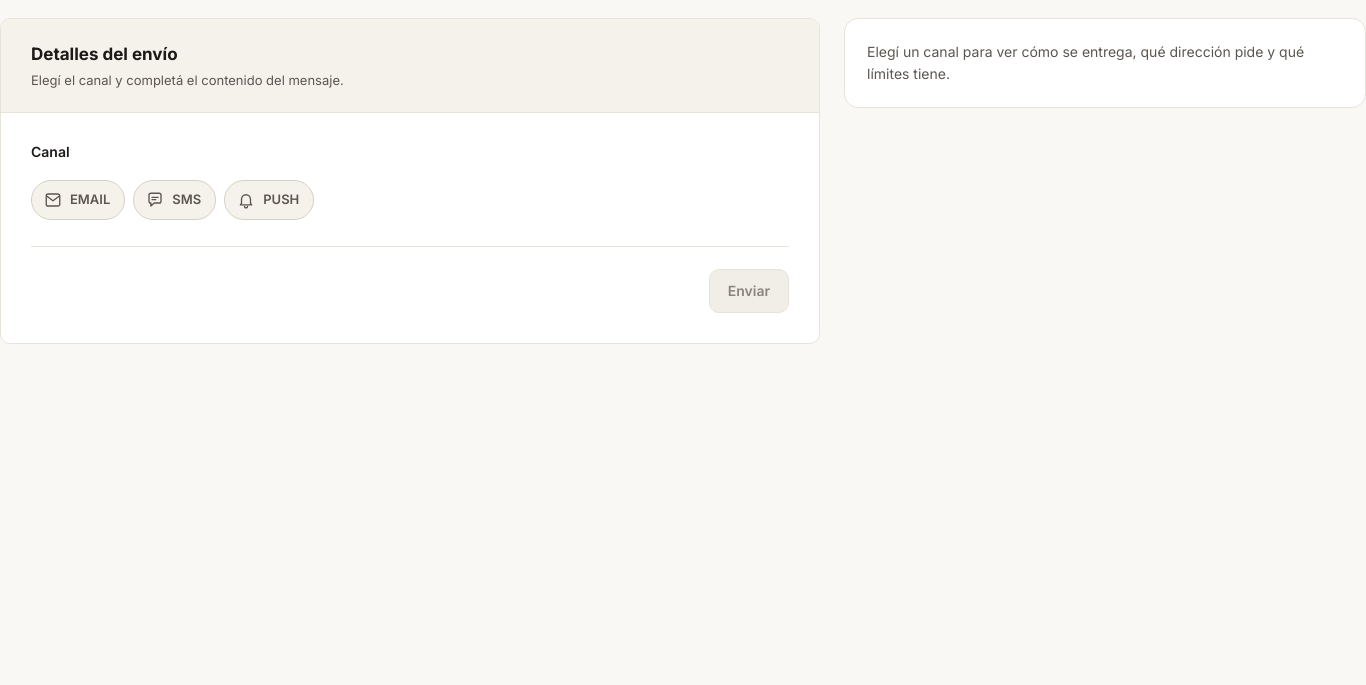
Test: NuevaNotificacion (validaciones) › envía el asunto sin espacios sobrantes y el correo normalizado
Click the radio button labelled "EMAIL". click: {"x": 78, "y": 200}
box: [31,180,125,220]
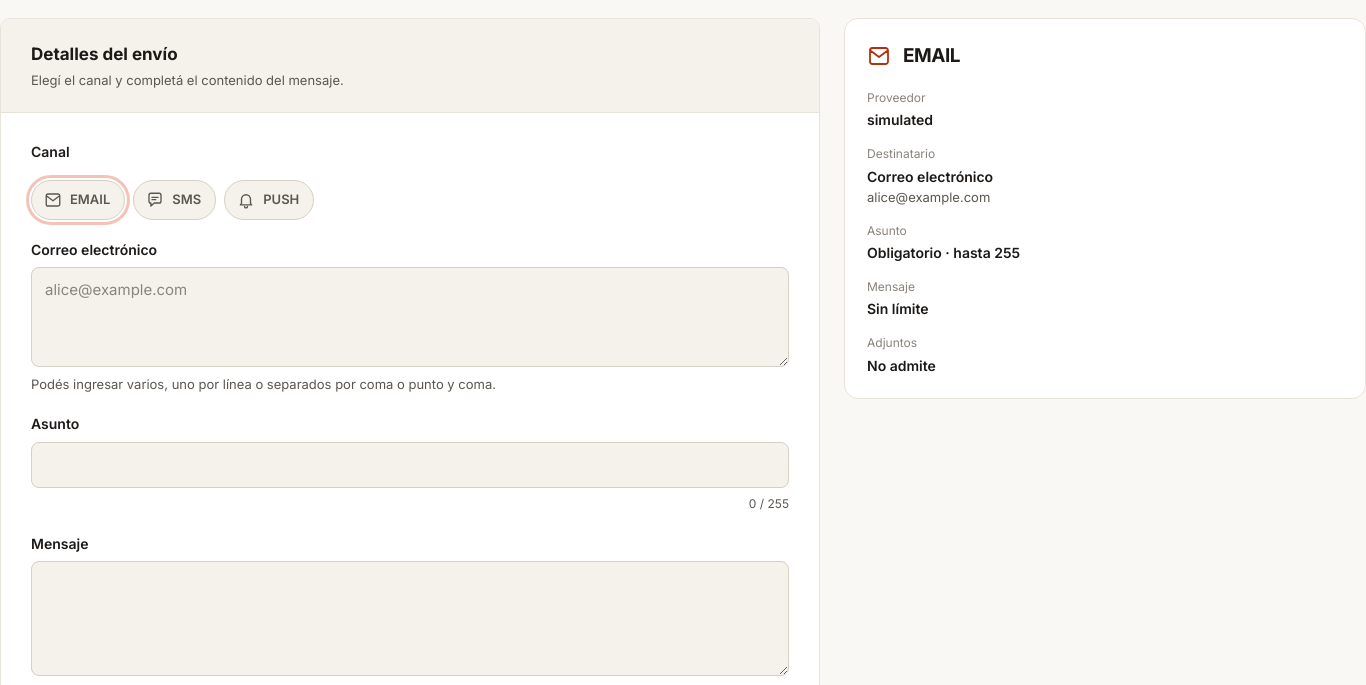
Type "  Alice@Example.COM " into the text box labelled "Correo electrónico". click: {"x": 410, "y": 317}
box: [31,267,789,367]
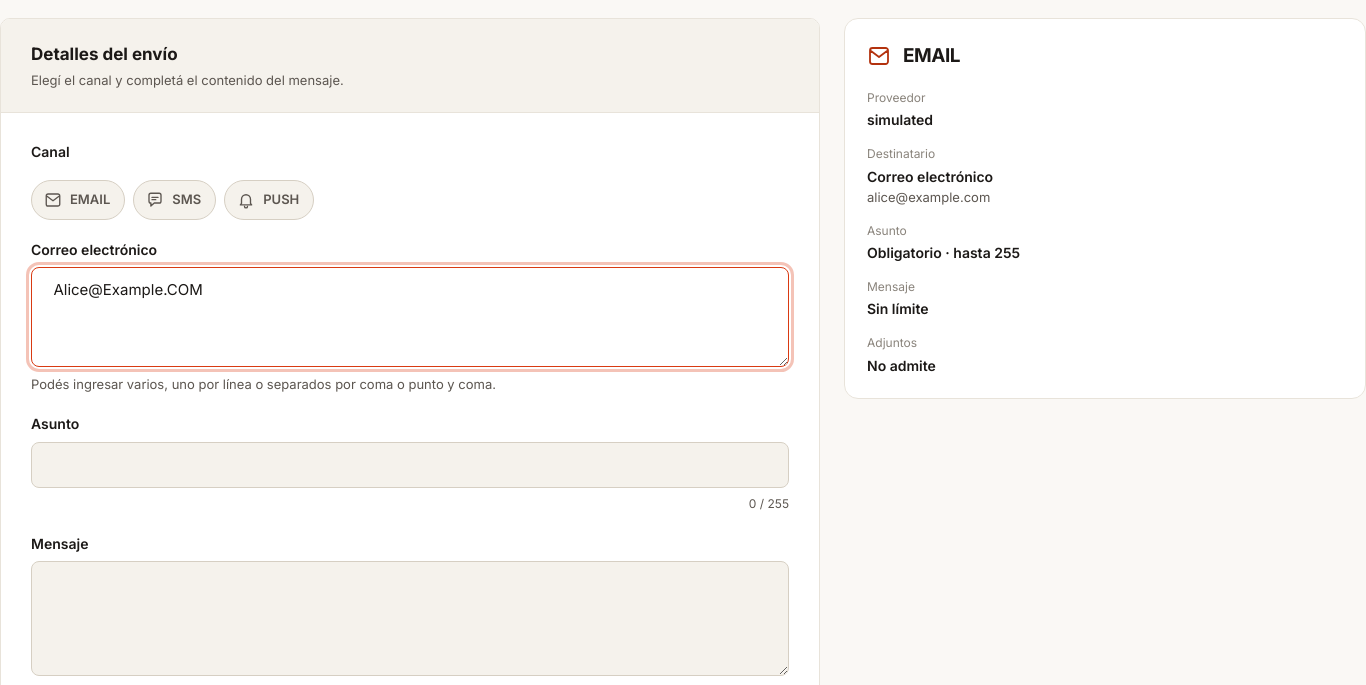
Type "  Tu pedido  " into the field labelled "Asunto". click: {"x": 410, "y": 465}
box: [31,442,789,488]
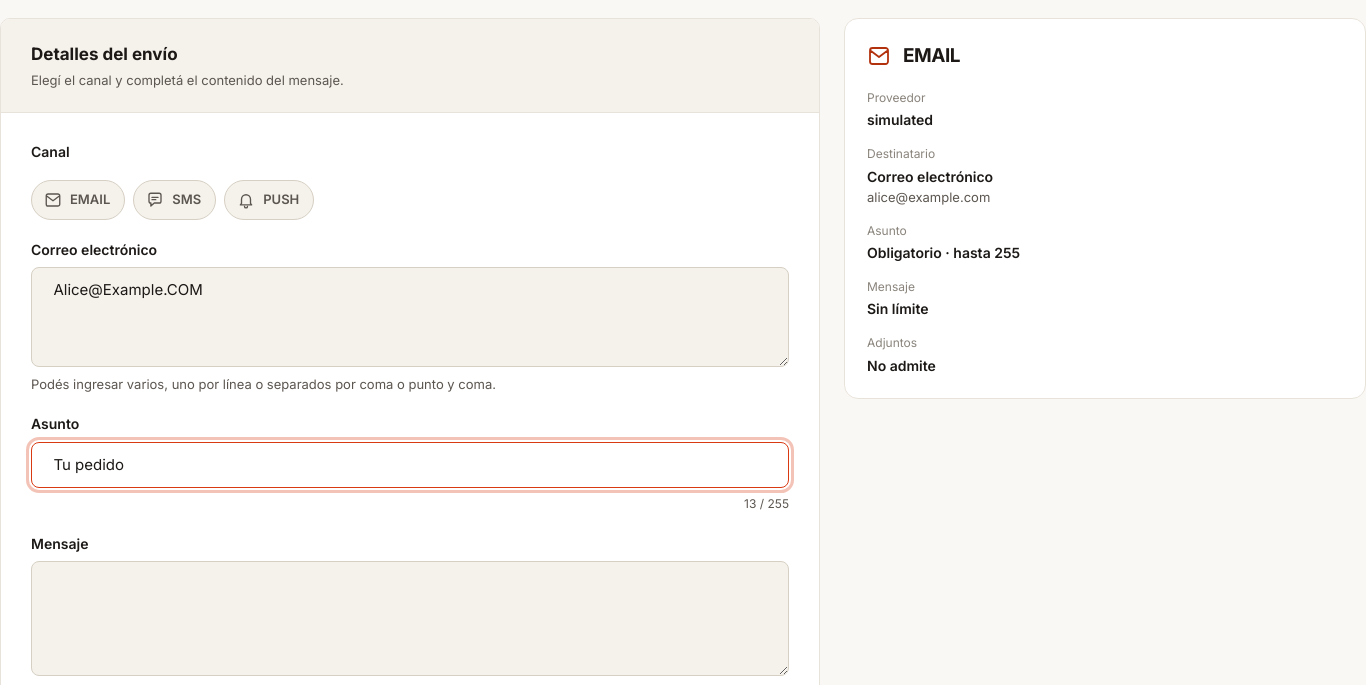
Type "Hola Alice" into the text box labelled "Mensaje". click: {"x": 410, "y": 619}
box: [31,561,789,676]
(page scrolled)
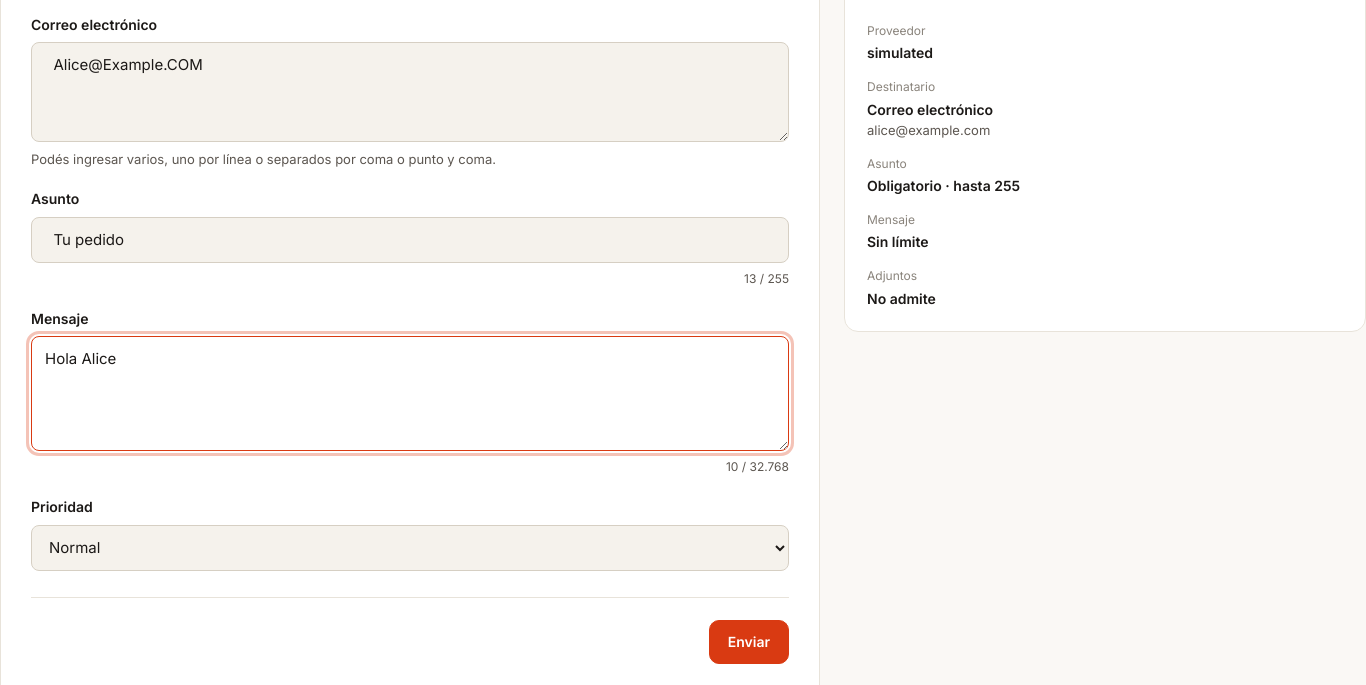
Click the button "Enviar". click: {"x": 749, "y": 642}
box: [709,620,789,664]
(page scrolled)
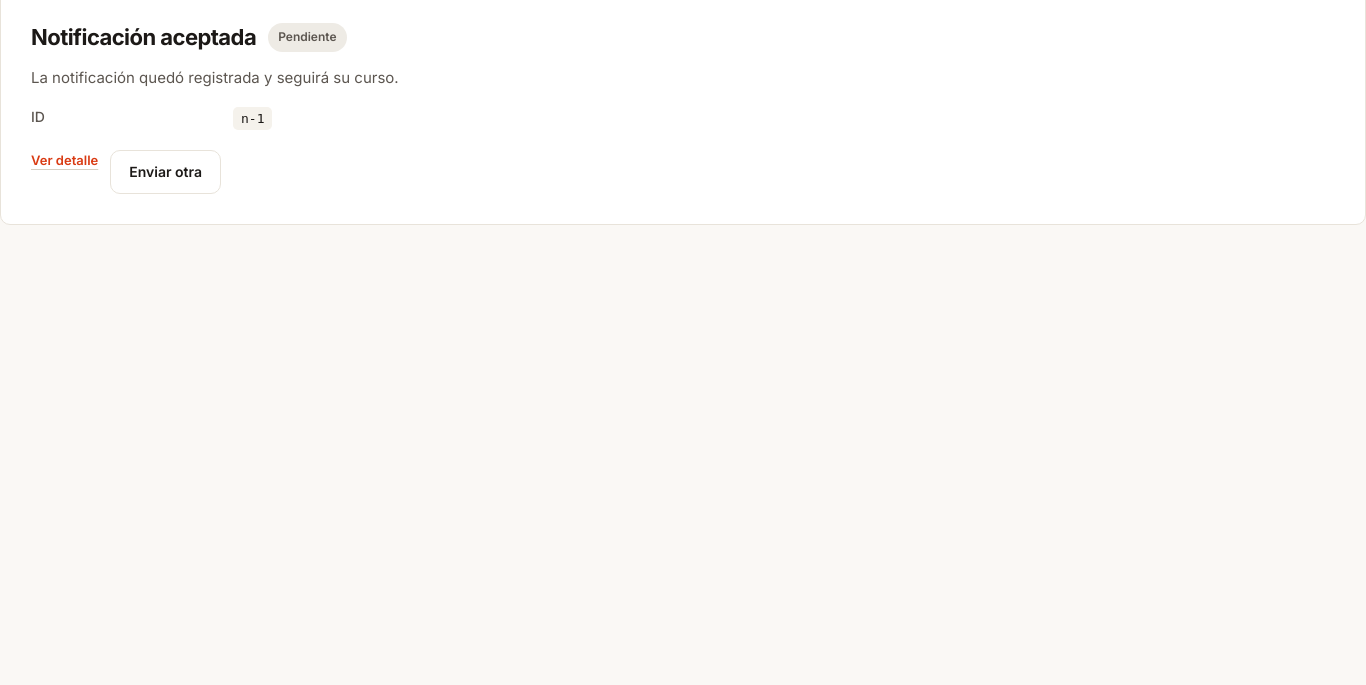
Now the heading "Notificación aceptada" is shown, box [31,20,256,54]
